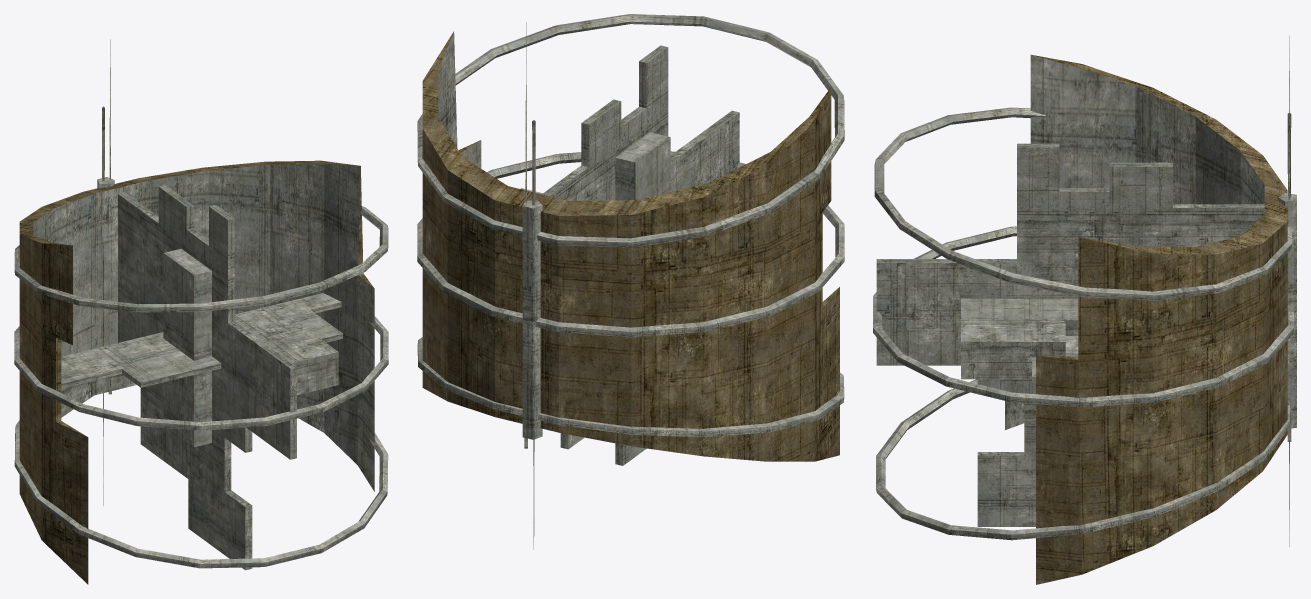
Rendered from thm_prp_junk_s3_l0.fbx.
3 views of the same model, side by side, from view 1: azimuth 30°, elevation 25°; view 2: azimuth 150°, elevation 25°; view 3: azimuth 270°, elevation 25° (orthographic). The views are drawn at different scales.
Parts seen in each view (by area): view 1: mesh_node; view 2: mesh_node; view 3: mesh_node.
Part boxes in pixels (x1,y1,x2,y2): mesh_node: (14, 39, 388, 584); mesh_node: (417, 14, 844, 549); mesh_node: (873, 36, 1296, 584).
Bounding box in the file's own units: 6.12 × 8.85 × 6.07.
